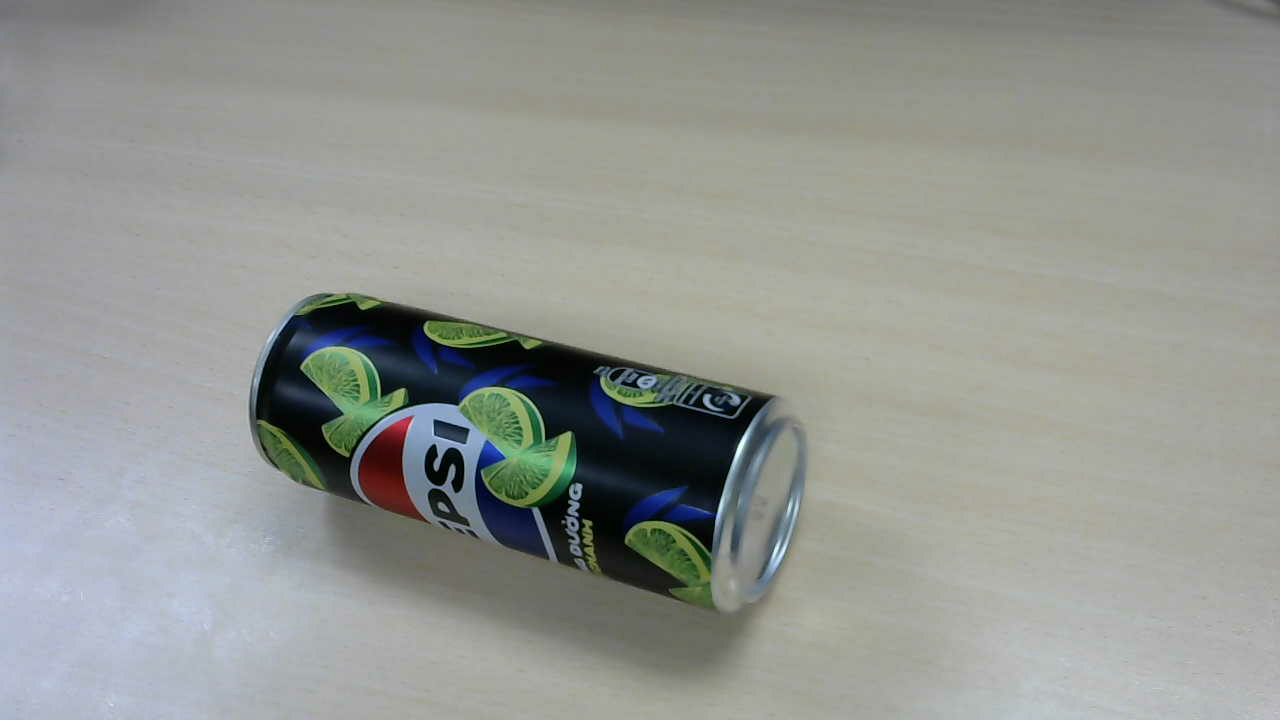Pepsi: (257, 297, 806, 618)
